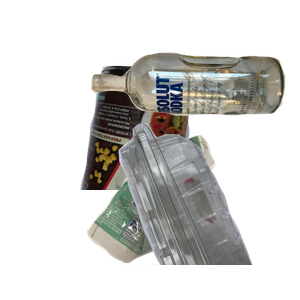glass: (88, 50, 300, 158)
metal: (78, 63, 266, 243)
plastic: (71, 120, 300, 300)
trash: (84, 133, 292, 300)
